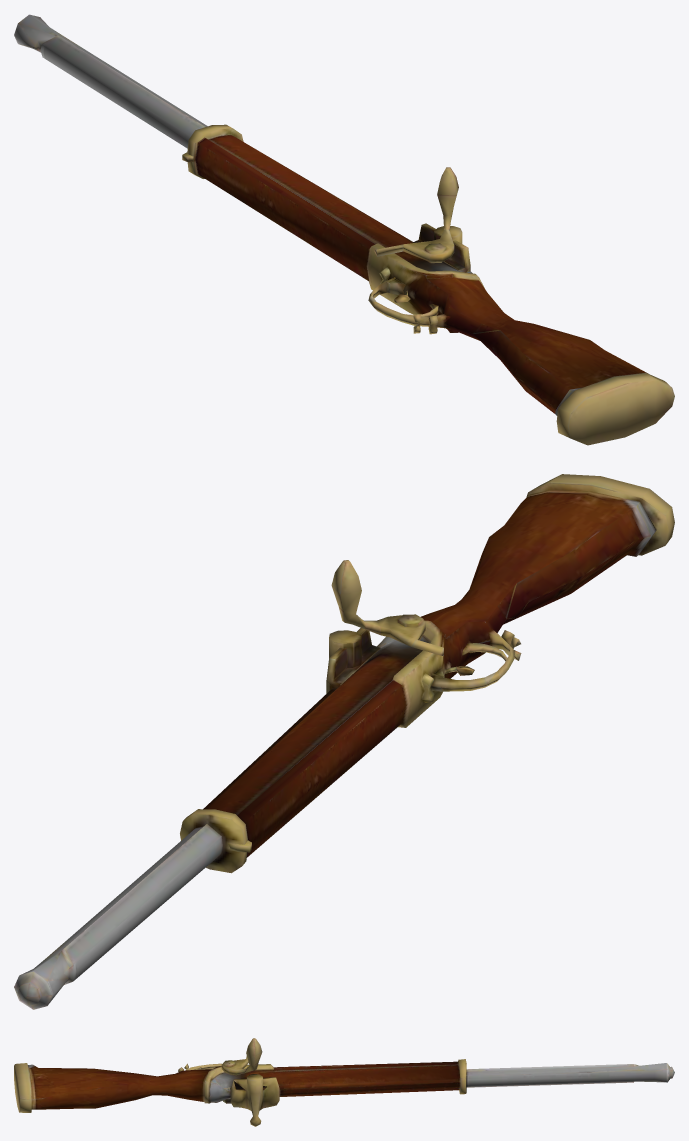
File: crossbow.fbx
3 renders of one model, top to bottom at view 1: azimuth 30°, elevation 25°; view 2: azimuth 150°, elevation 25°; view 3: azimuth 270°, elevation 25°, orthographic. The views are drawn at different scales.
Parts seen in each view (by area): view 1: tripo_node_b8905130-1e8d-4bc4-82e1-00929c269a05; view 2: tripo_node_b8905130-1e8d-4bc4-82e1-00929c269a05; view 3: tripo_node_b8905130-1e8d-4bc4-82e1-00929c269a05.
Part boxes in pixels (bbox=[...]): tripo_node_b8905130-1e8d-4bc4-82e1-00929c269a05: bbox=[14, 14, 674, 445]; tripo_node_b8905130-1e8d-4bc4-82e1-00929c269a05: bbox=[14, 474, 674, 1009]; tripo_node_b8905130-1e8d-4bc4-82e1-00929c269a05: bbox=[14, 1038, 674, 1126].
Bounding box in the file's own units: 0.1754 × 0.1709 × 1.21.
Materials: 1 (1 with a texture image).
